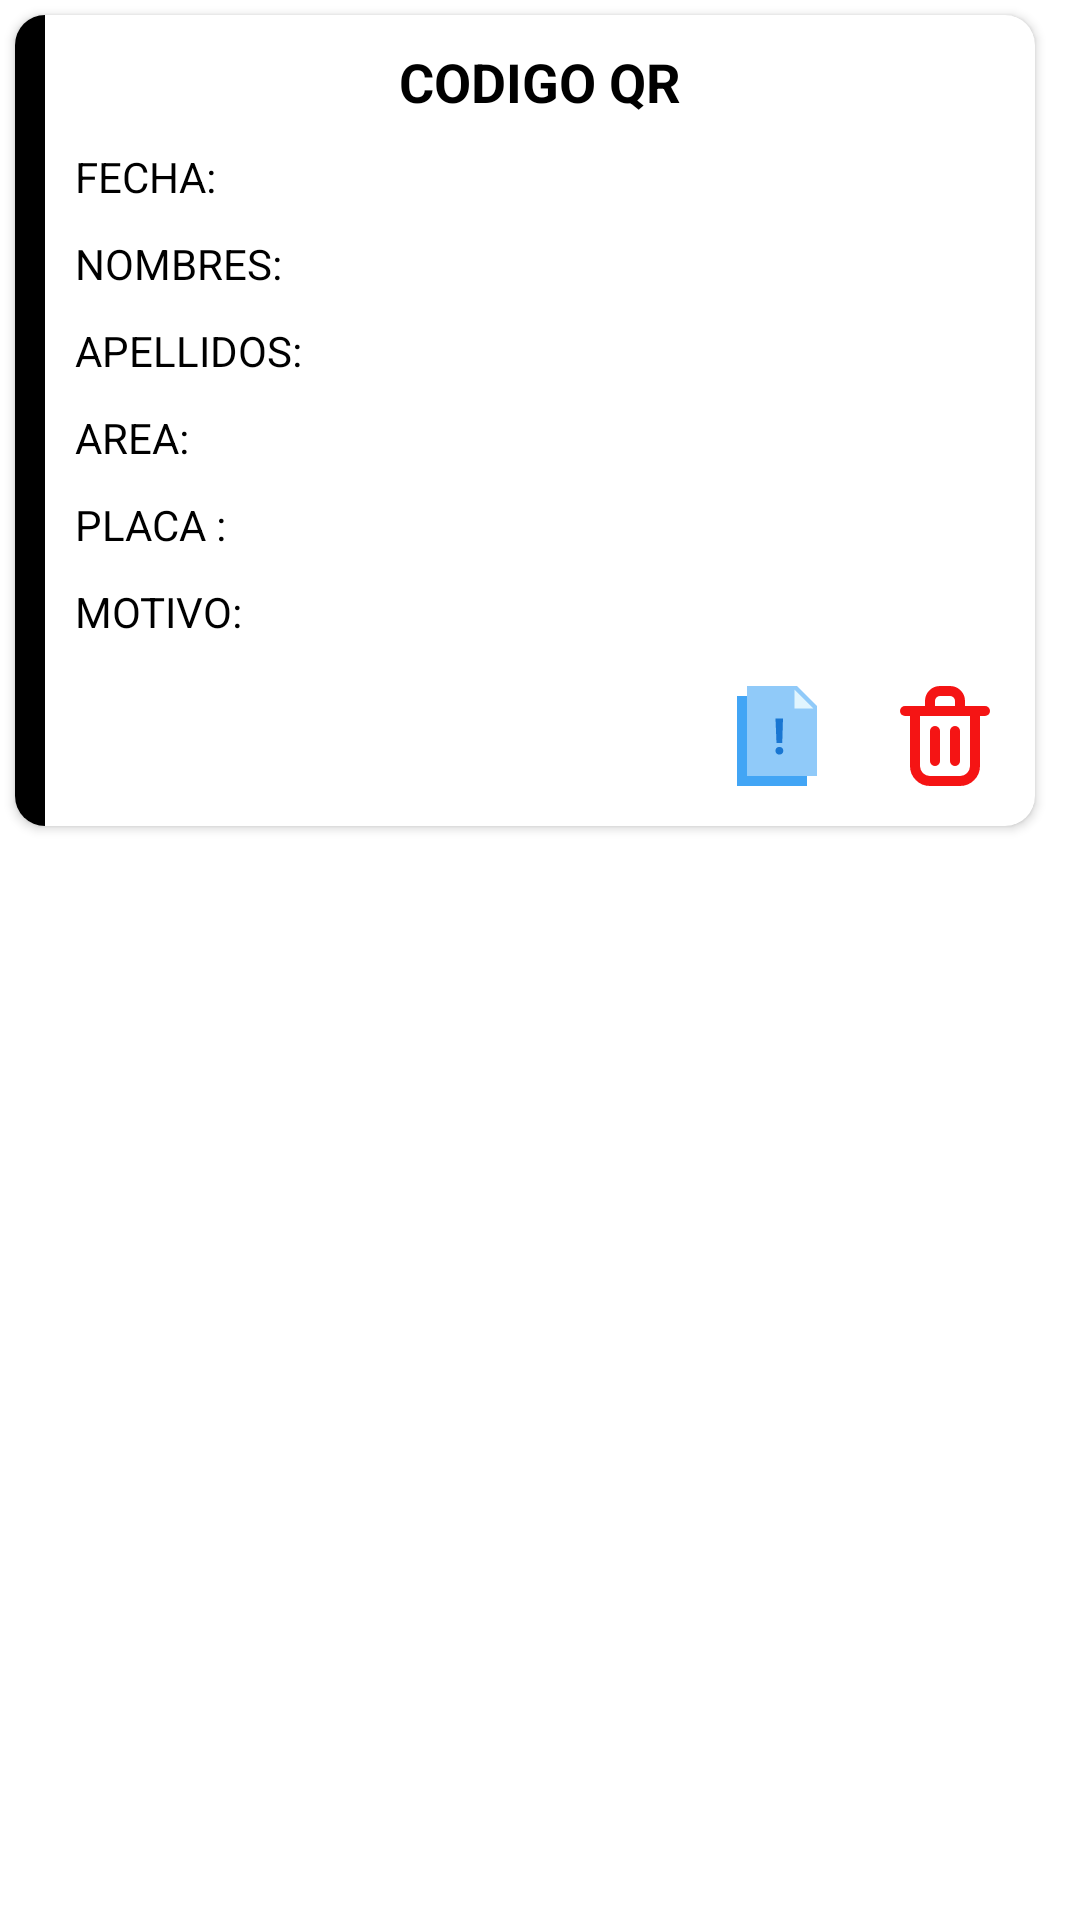

Where to tap for icons on this 1080 × 1920 app screen, as (x=x, y=y):
Eliminar: (x=945, y=736)
ver detalle: (x=777, y=736)
